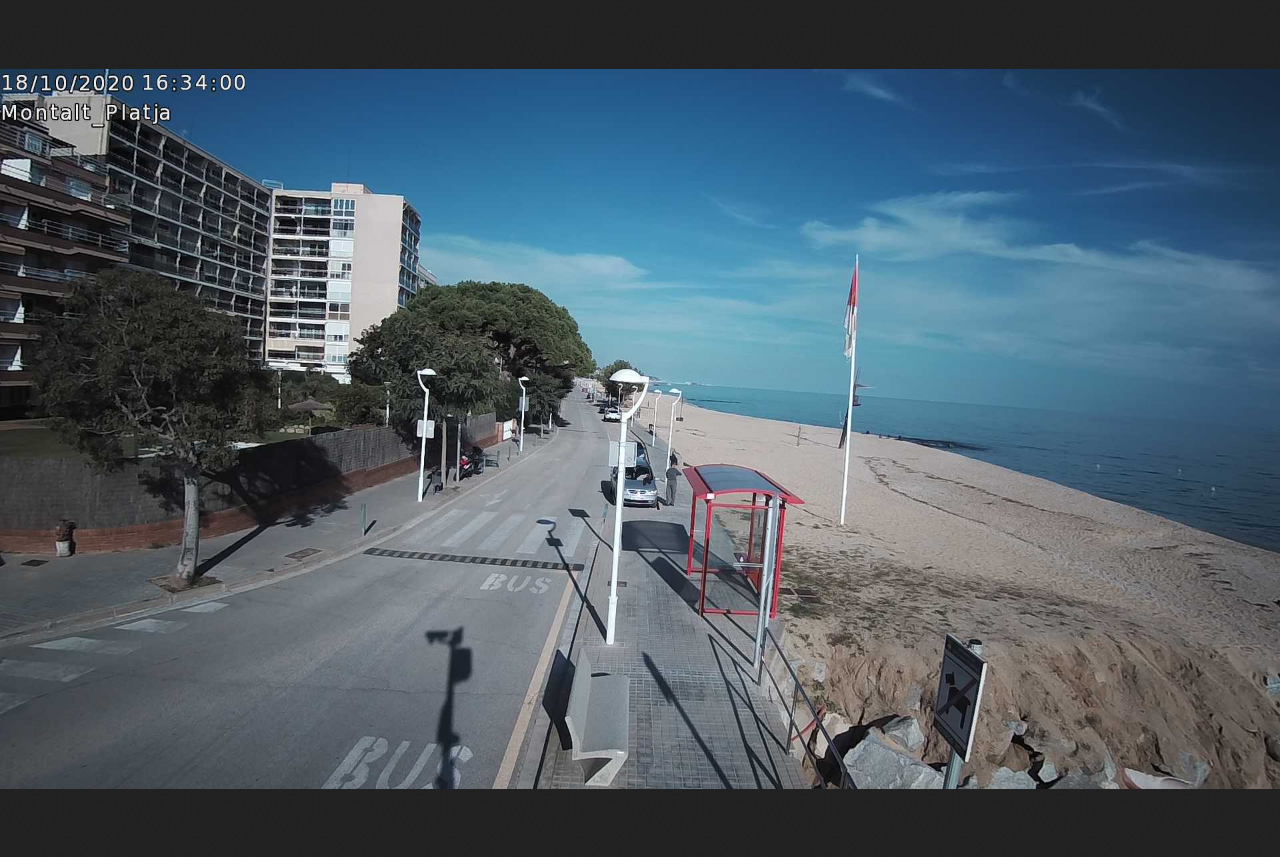no: (843, 261, 862, 362)
